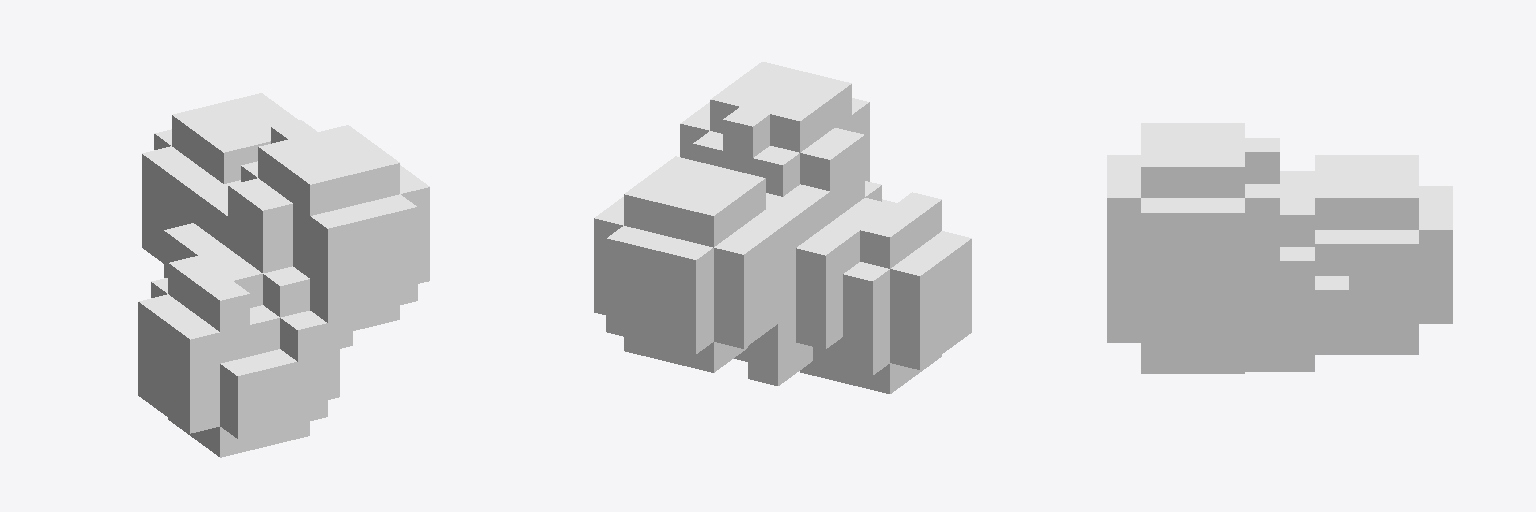
File: seedpira-0.obj
The picture shows the model from 3 angles: view 1: azimuth 30°, elevation 25°; view 2: azimuth 150°, elevation 25°; view 3: azimuth 270°, elevation 25°; orthographic projection.
Parts seen in each view (by area): view 1: object 1; view 2: object 1; view 3: object 1.
Boxes of the visible parts, x1=… form: object 1: x1=138, y1=93, x2=429, y2=457; object 1: x1=594, y1=62, x2=971, y2=393; object 1: x1=1107, y1=123, x2=1452, y2=373.
Size of the model in its own units: 4.5 by 4 by 5.